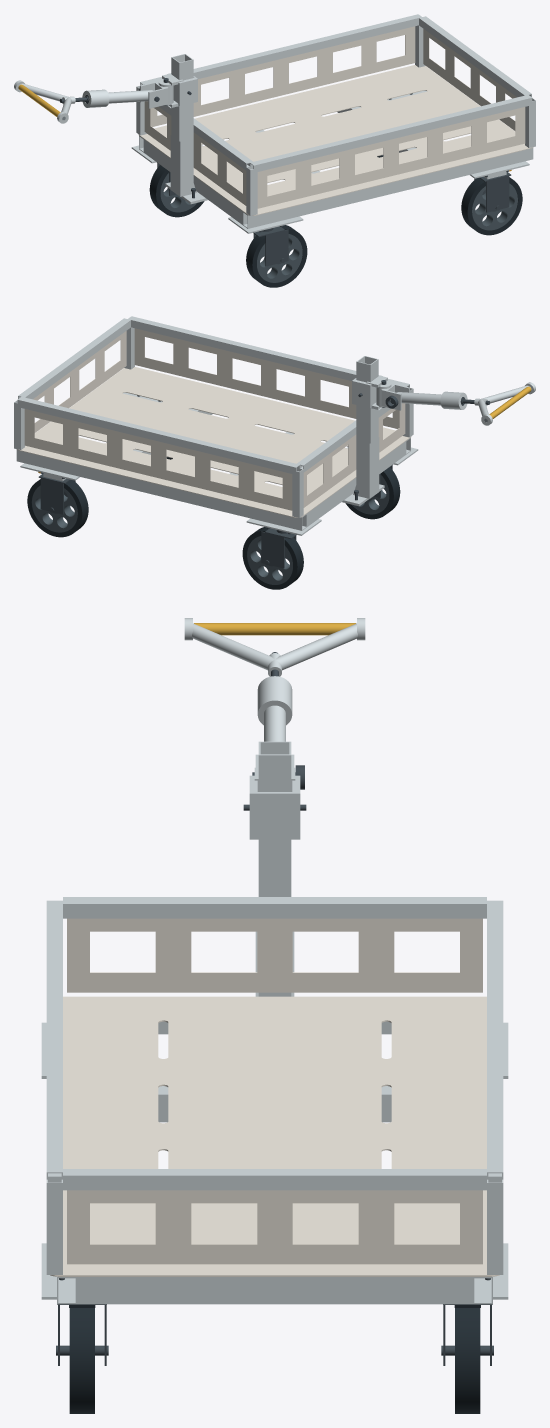
File: goose_low_profile_stock_cart_02.glb
The picture shows the model from 3 angles, top to bottom: view 1: azimuth 30°, elevation 25°; view 2: azimuth 150°, elevation 25°; view 3: azimuth 270°, elevation 25°; orthographic projection. The views are drawn at different scales.
Visible parts, largest first — view 1: goose_low_profile_stock_cart_02 (×5); view 2: goose_low_profile_stock_cart_02 (×5); view 3: goose_low_profile_stock_cart_02 (×5).
Boxes of the visible parts, x1,y1,x2,y2 form: goose_low_profile_stock_cart_02 (×5): (14, 14, 535, 287); goose_low_profile_stock_cart_02 (×5): (14, 316, 535, 589); goose_low_profile_stock_cart_02 (×5): (41, 618, 508, 1413).
Bounding box in the file's own units: 1.01 × 0.44 × 0.46.
